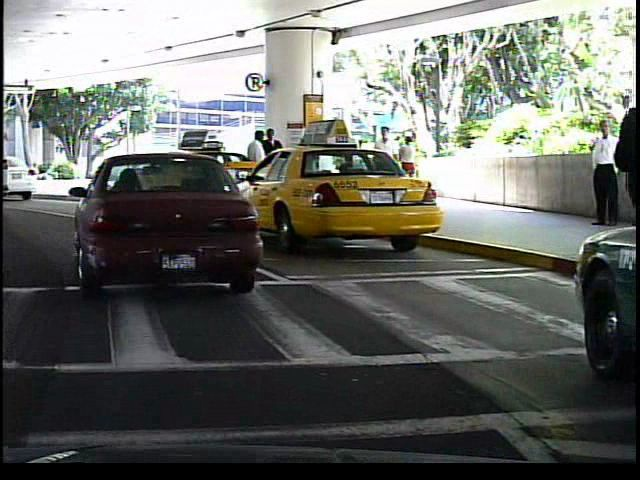person: (602, 99, 640, 259), (577, 112, 614, 236), (368, 119, 403, 206), (240, 127, 271, 208), (393, 130, 420, 197), (262, 126, 284, 204)
